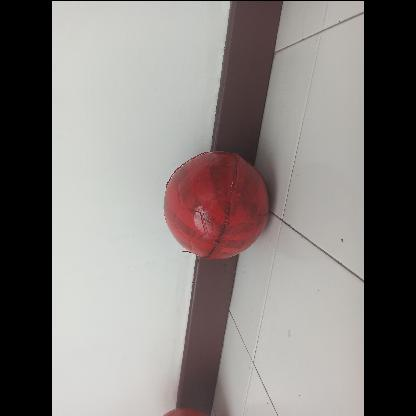red_ball: (162, 149, 268, 255)
